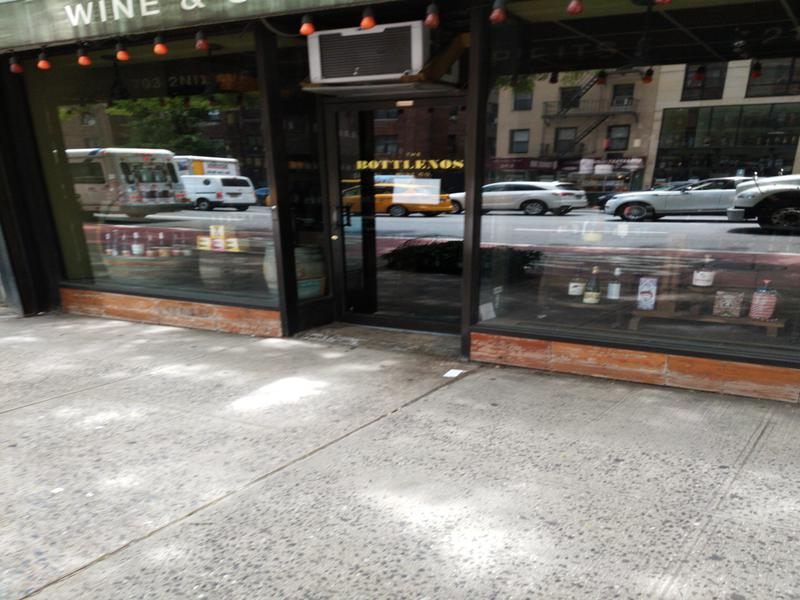door: (314, 98, 494, 339)
